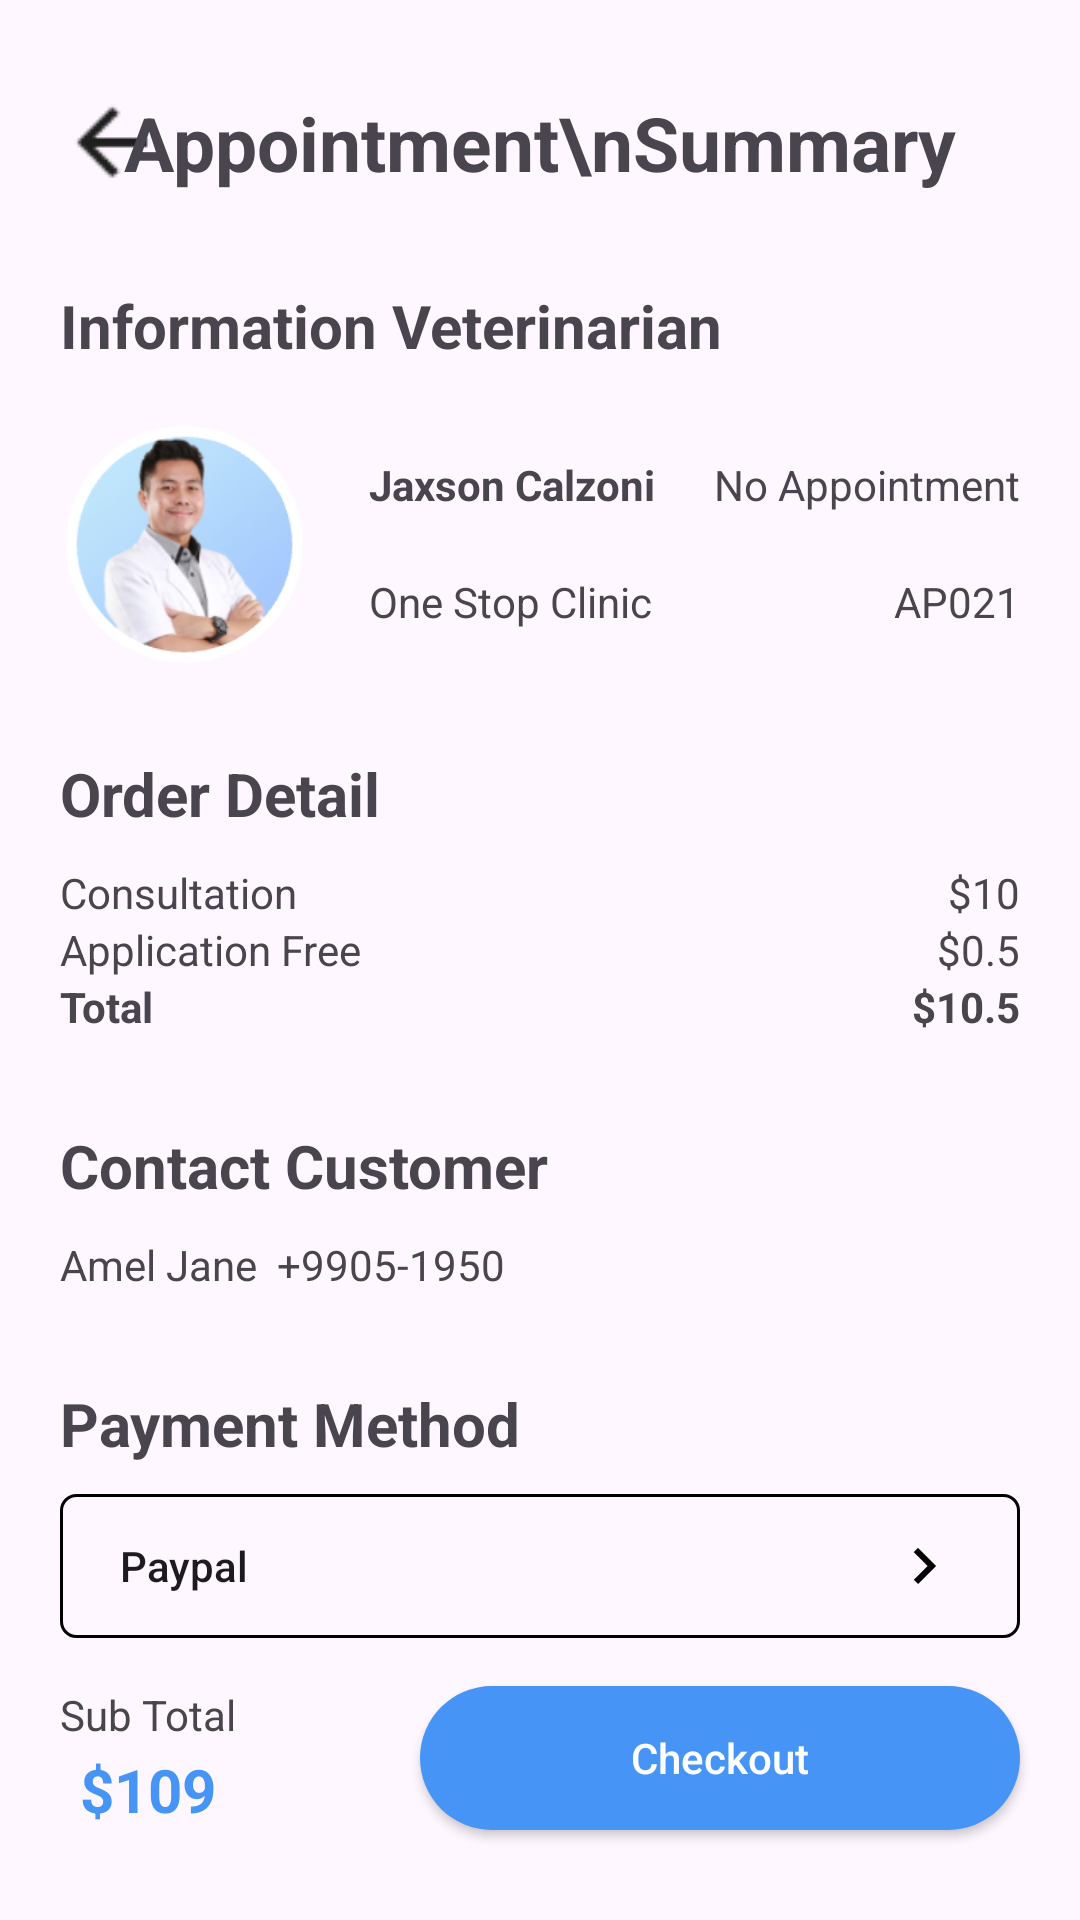

Where to tap for icons on this 1080x1920 app screen, as (x,y):
right arrow: (925,1566)
veterinarian profile: (185,545)
